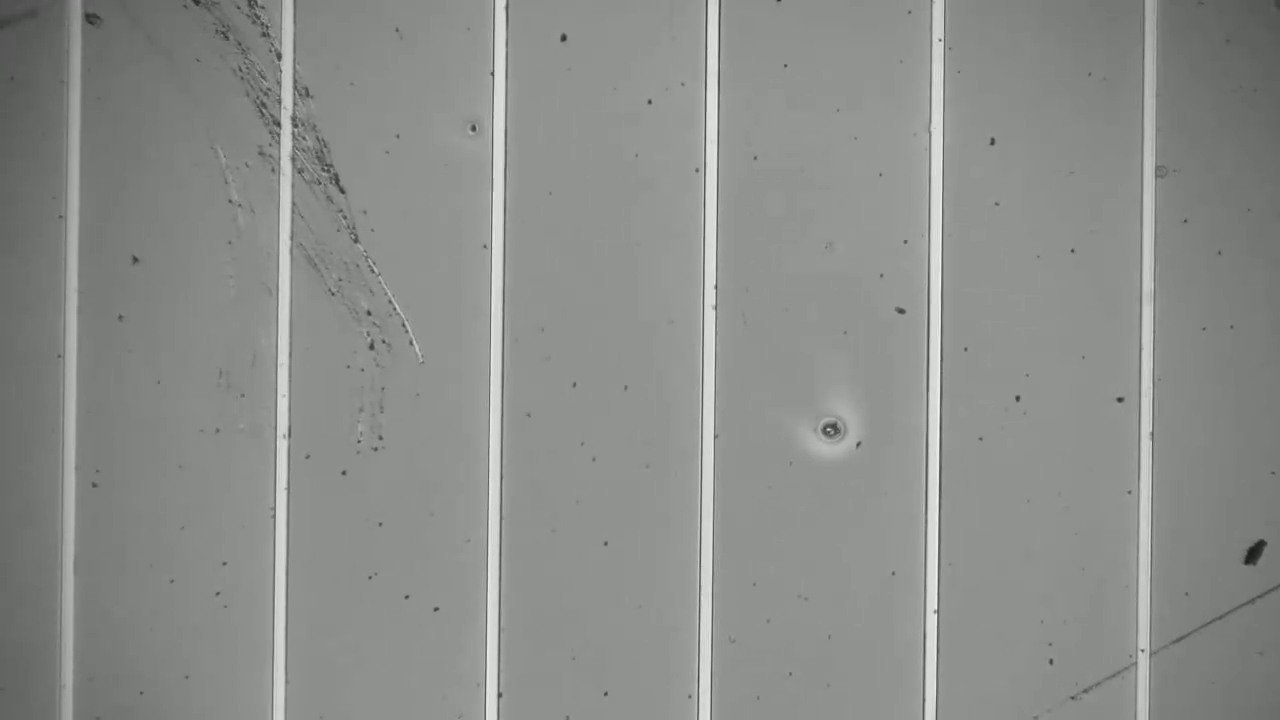scratch: (235, 95, 426, 337), (1037, 587, 1280, 713)
